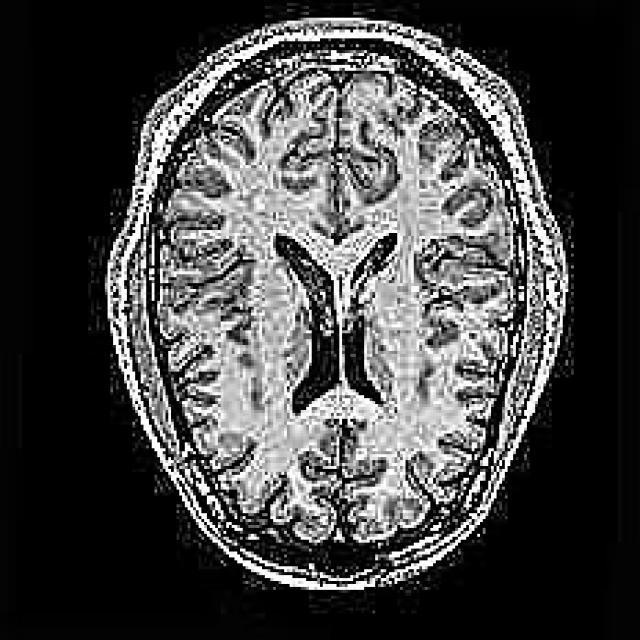notumor: (108, 18, 571, 596)
